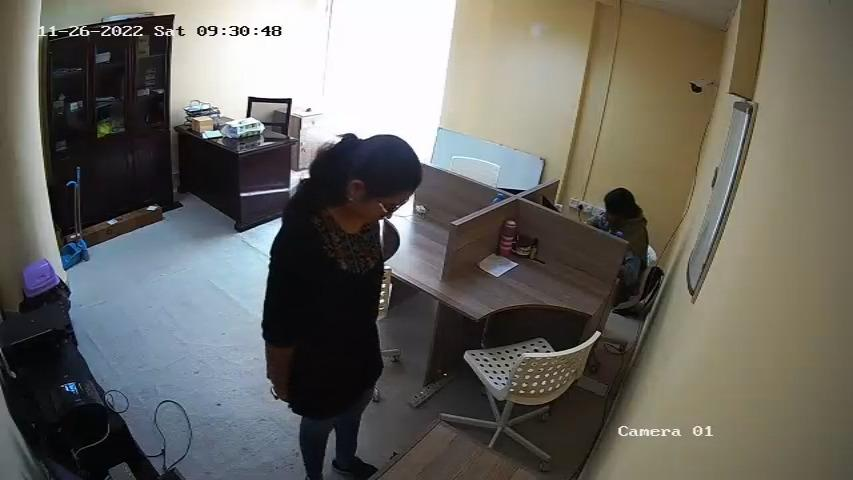no_apron: (307, 227, 383, 386)
